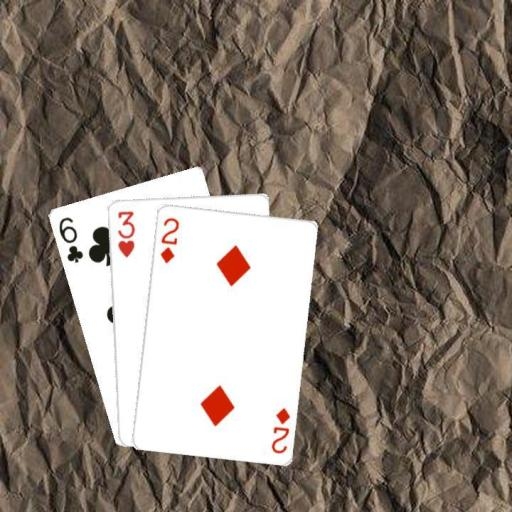2D: (157, 214, 180, 265), (268, 405, 291, 455)
3H: (114, 208, 136, 258)
6C: (55, 213, 85, 264)
